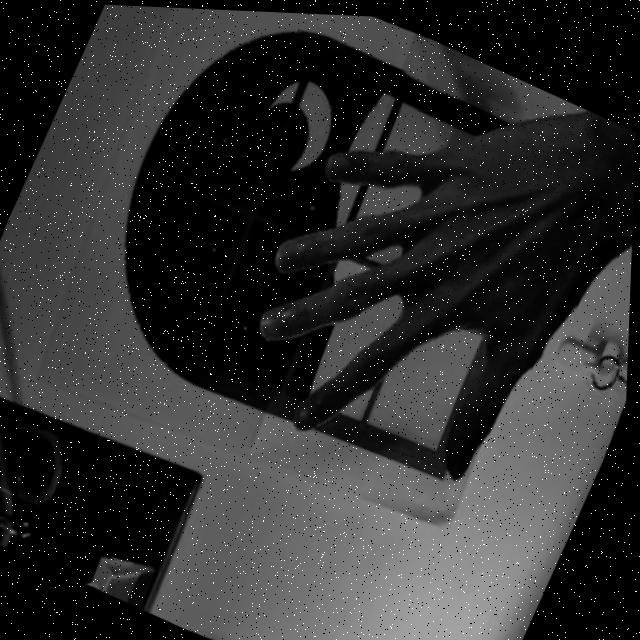hand: (176, 7, 640, 547)
